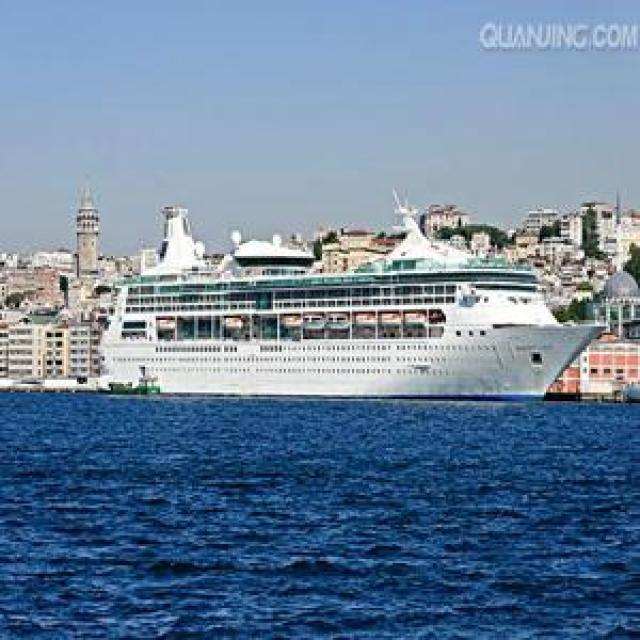passenger ship: (101, 203, 602, 401)
